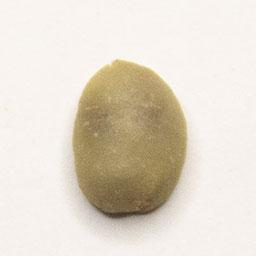longberry: (70, 55, 192, 222)
